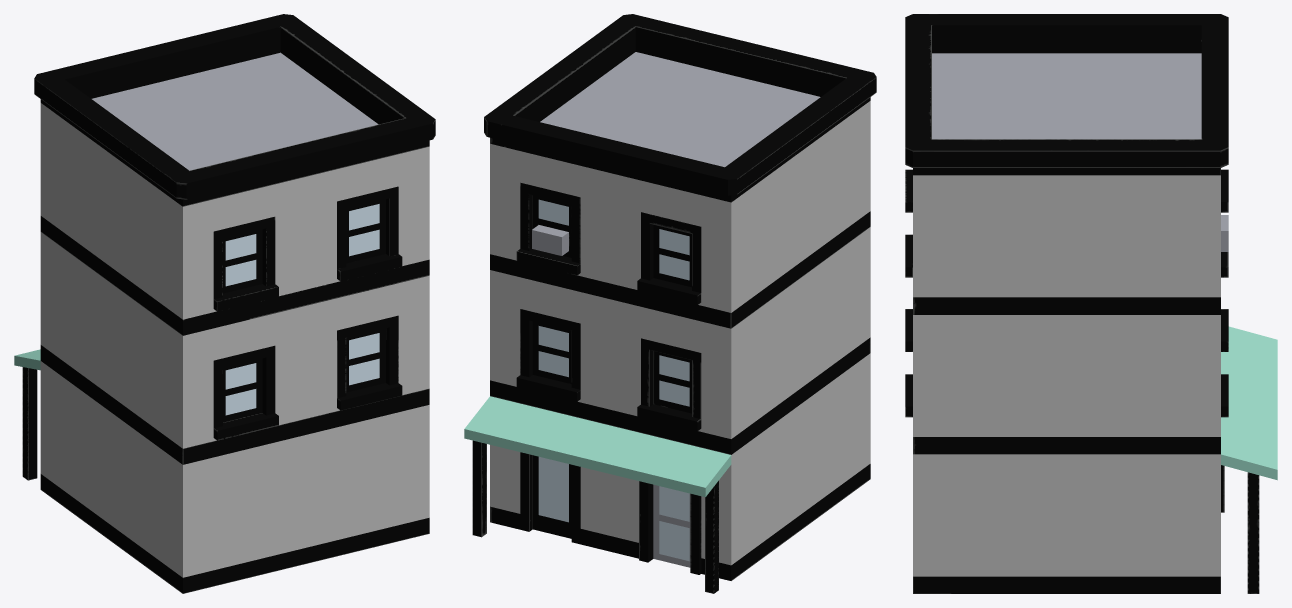
The model's file is small_buildingD1.fbx.
3 views of the same model, side by side, from view 1: azimuth 30°, elevation 25°; view 2: azimuth 150°, elevation 25°; view 3: azimuth 270°, elevation 25° (orthographic). The views are drawn at different scales.
Parts seen in each view (by area): view 1: small_buildingD; view 2: small_buildingD; view 3: small_buildingD.
Boxes of the visible parts, x1,y1,x2,y2 form: small_buildingD: [14, 14, 435, 593]; small_buildingD: [464, 14, 876, 593]; small_buildingD: [905, 14, 1277, 593].
Bounding box in the file's own units: 84 × 128 × 96.79.
